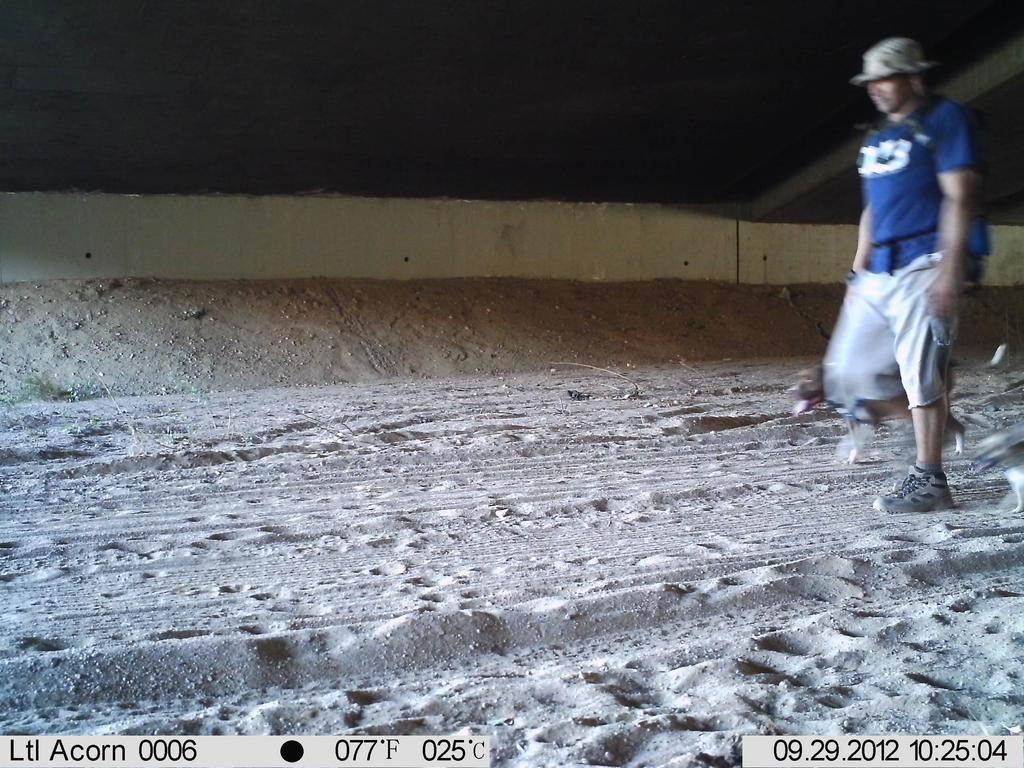dog: (788, 335, 983, 459), (964, 421, 1021, 520)
